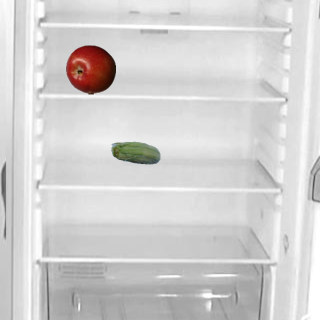Apple Braeburn: (65, 44, 115, 94)
Corn Husk: (110, 129, 160, 179)
